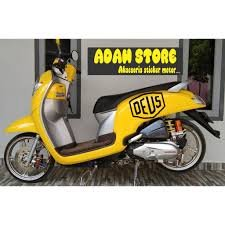motor: (11, 56, 215, 184)
